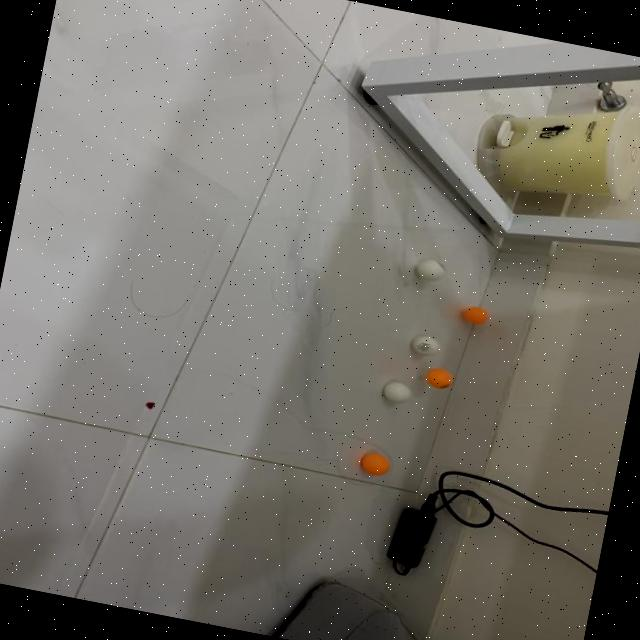ping-pong-ball: (359, 450, 393, 478), (414, 255, 448, 282), (381, 378, 414, 403), (408, 333, 442, 356), (427, 366, 458, 389), (463, 304, 492, 326)
